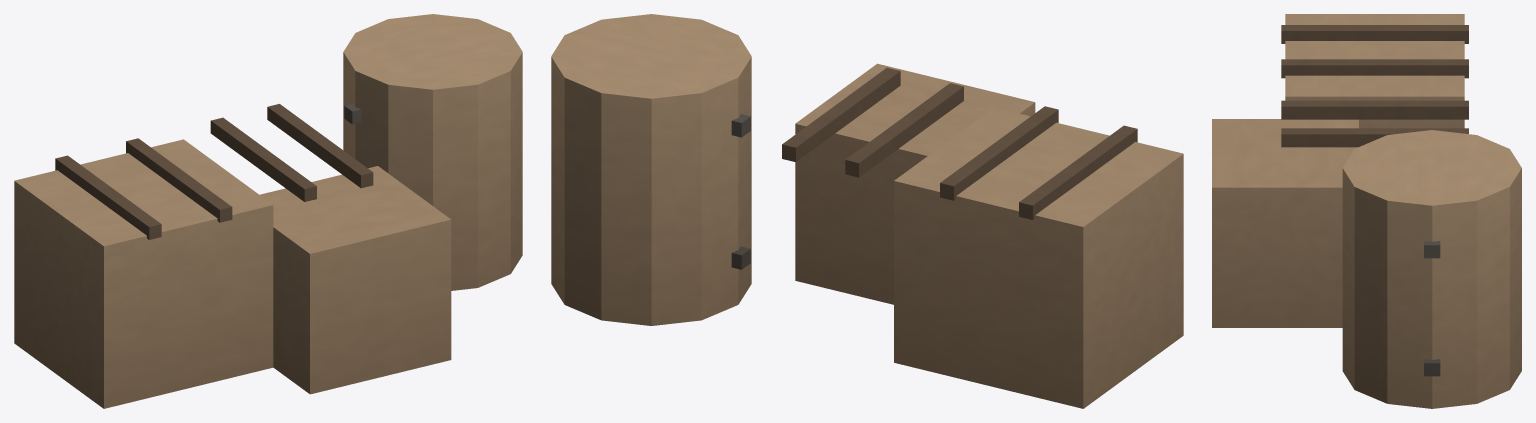
File: barrel_crate_cluster.glb
3 renders of one model, left to right at view 1: azimuth 30°, elevation 25°; view 2: azimuth 150°, elevation 25°; view 3: azimuth 270°, elevation 25°, orthographic. The views are drawn at different scales.
Parts seen in each view (by area): view 1: barrel_crate_cluster; view 2: barrel_crate_cluster; view 3: barrel_crate_cluster.
Part boxes in pixels (x1,y1,x2,y2): barrel_crate_cluster: (14,14,522,408); barrel_crate_cluster: (551,14,1183,408); barrel_crate_cluster: (1212,14,1521,408).
Bounding box in the file's own units: 1.38 × 0.555 × 0.76.
Materials: 1 (1 with a texture image).
